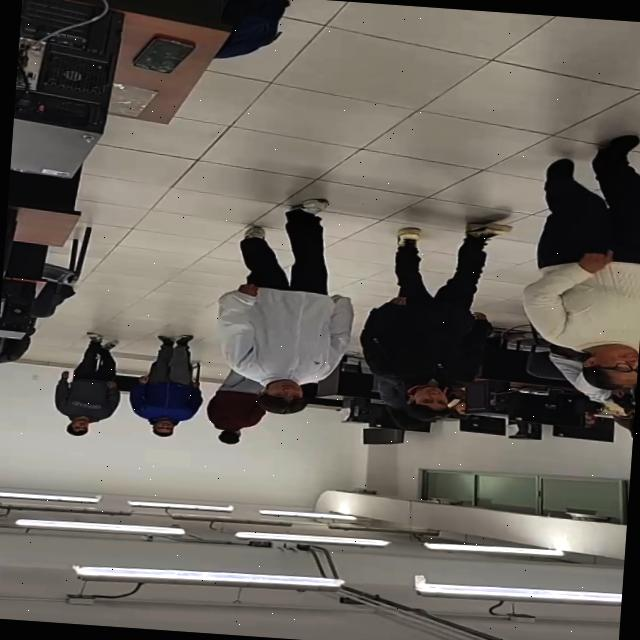Persona: (362, 206, 520, 436), (215, 188, 363, 416), (538, 114, 640, 388), (137, 326, 212, 446), (52, 336, 121, 442), (202, 386, 267, 462)
